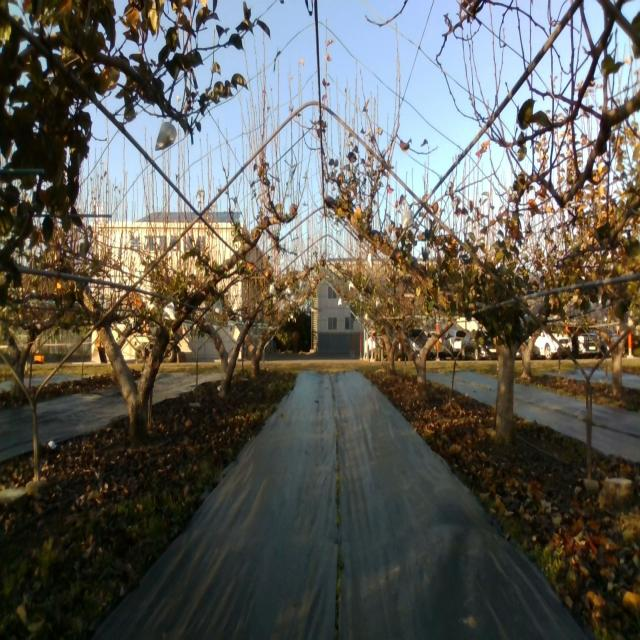pearbags: (155, 122, 177, 152), (161, 301, 176, 322), (402, 208, 416, 230)
